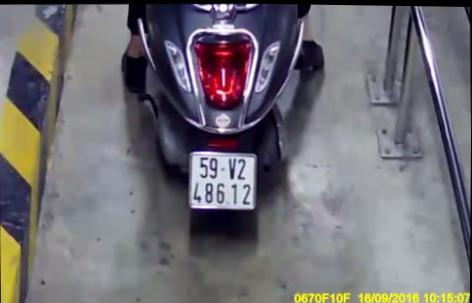LP: (186, 149, 257, 212)
